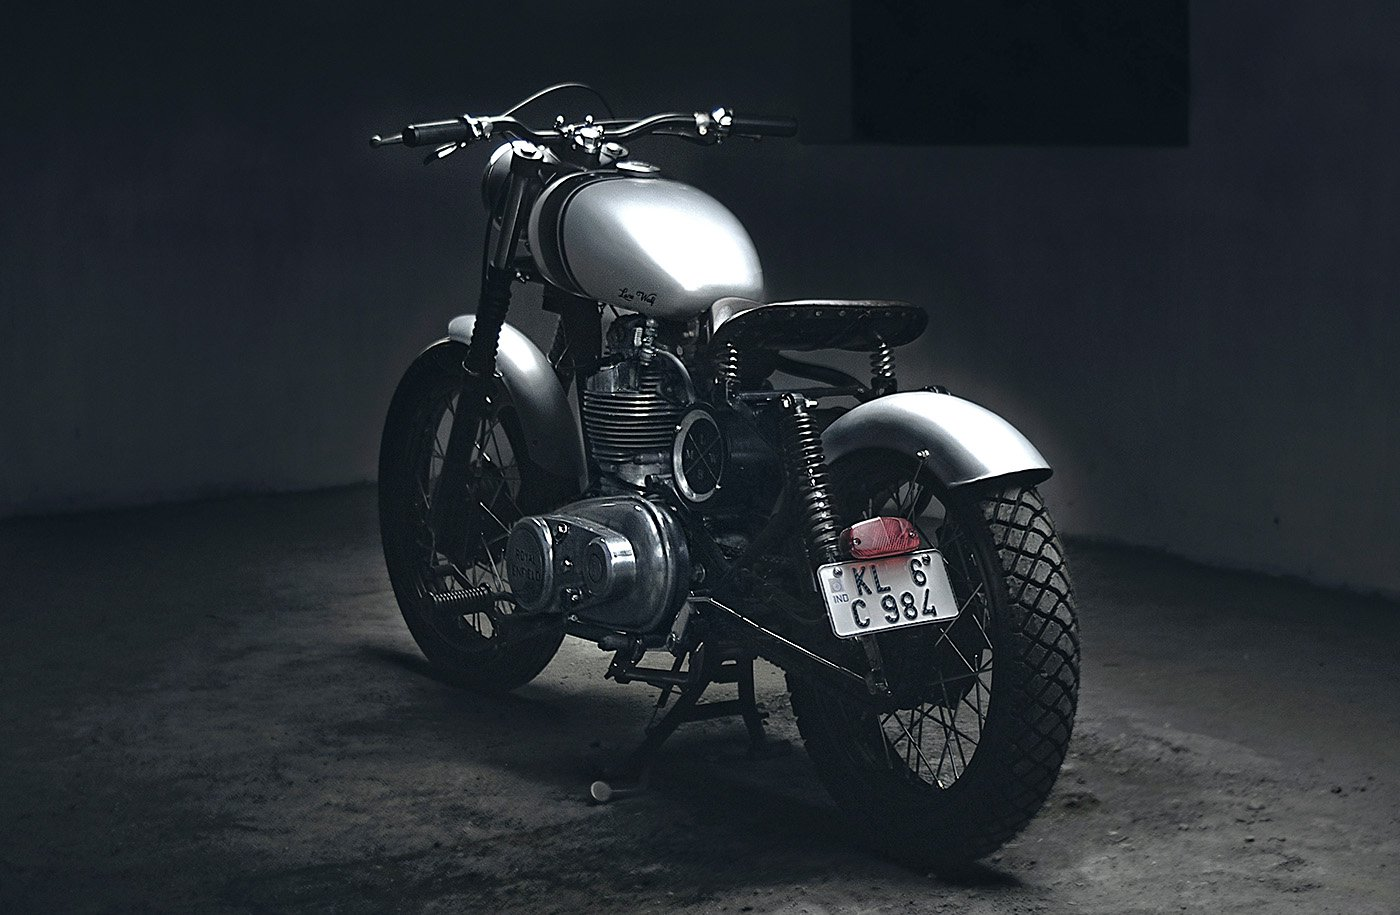number_plate: (811, 533, 967, 640)
